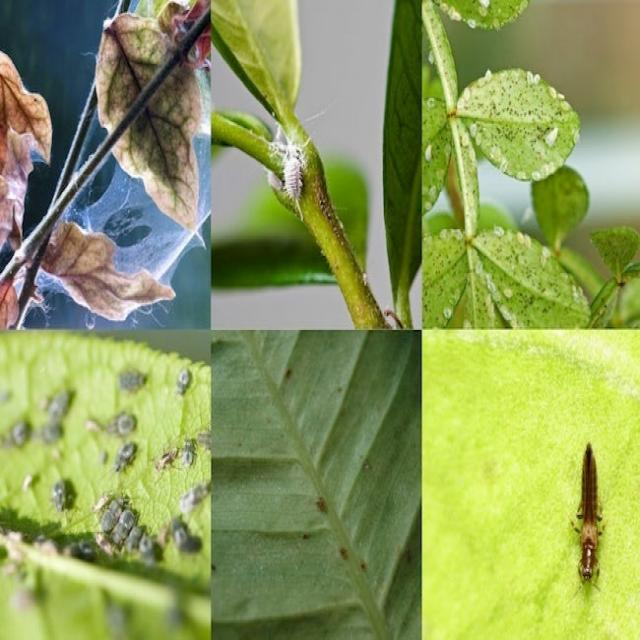Thrip-Adult-: (554, 430, 608, 592)
